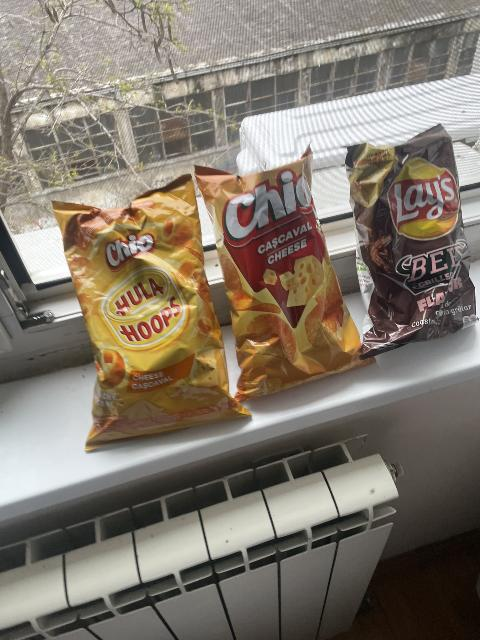Chio Cascaval 125g: (201, 149, 370, 394)
Chio Hula Hoops Cheese 70g: (49, 180, 246, 441)
Lays Beef Grilled Ribs 125g: (349, 124, 475, 351)
